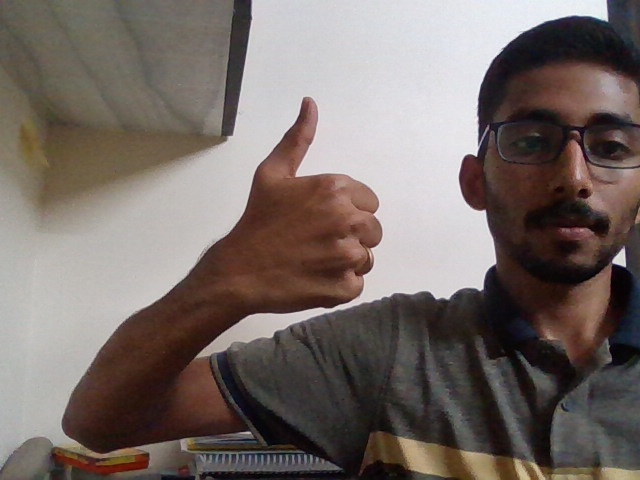Yes: (202, 84, 395, 322)
